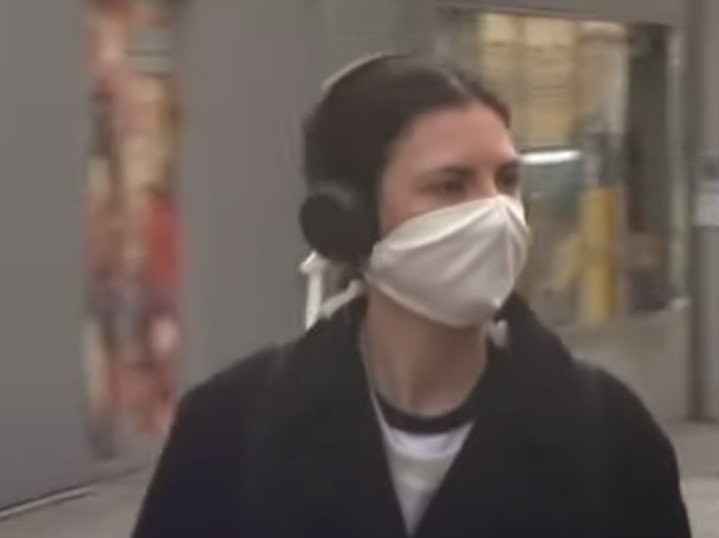face_with_mask: (317, 76, 538, 332)
